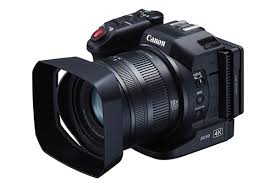camera: (31, 12, 244, 177)
